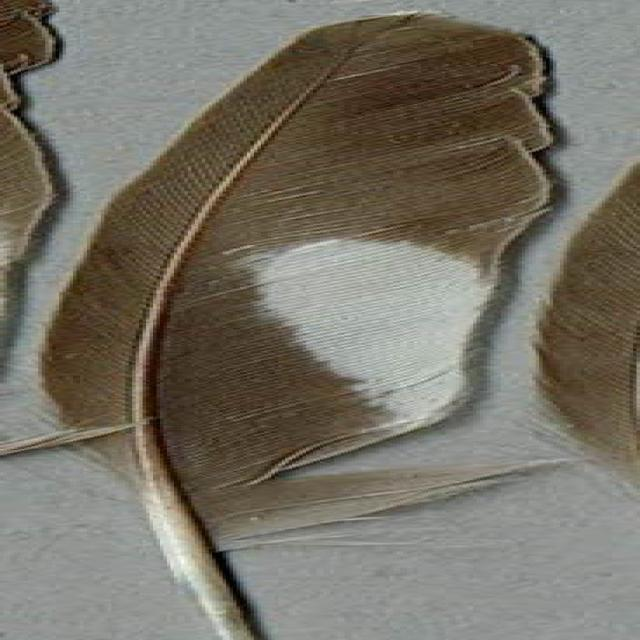feather: (21, 13, 570, 640)
